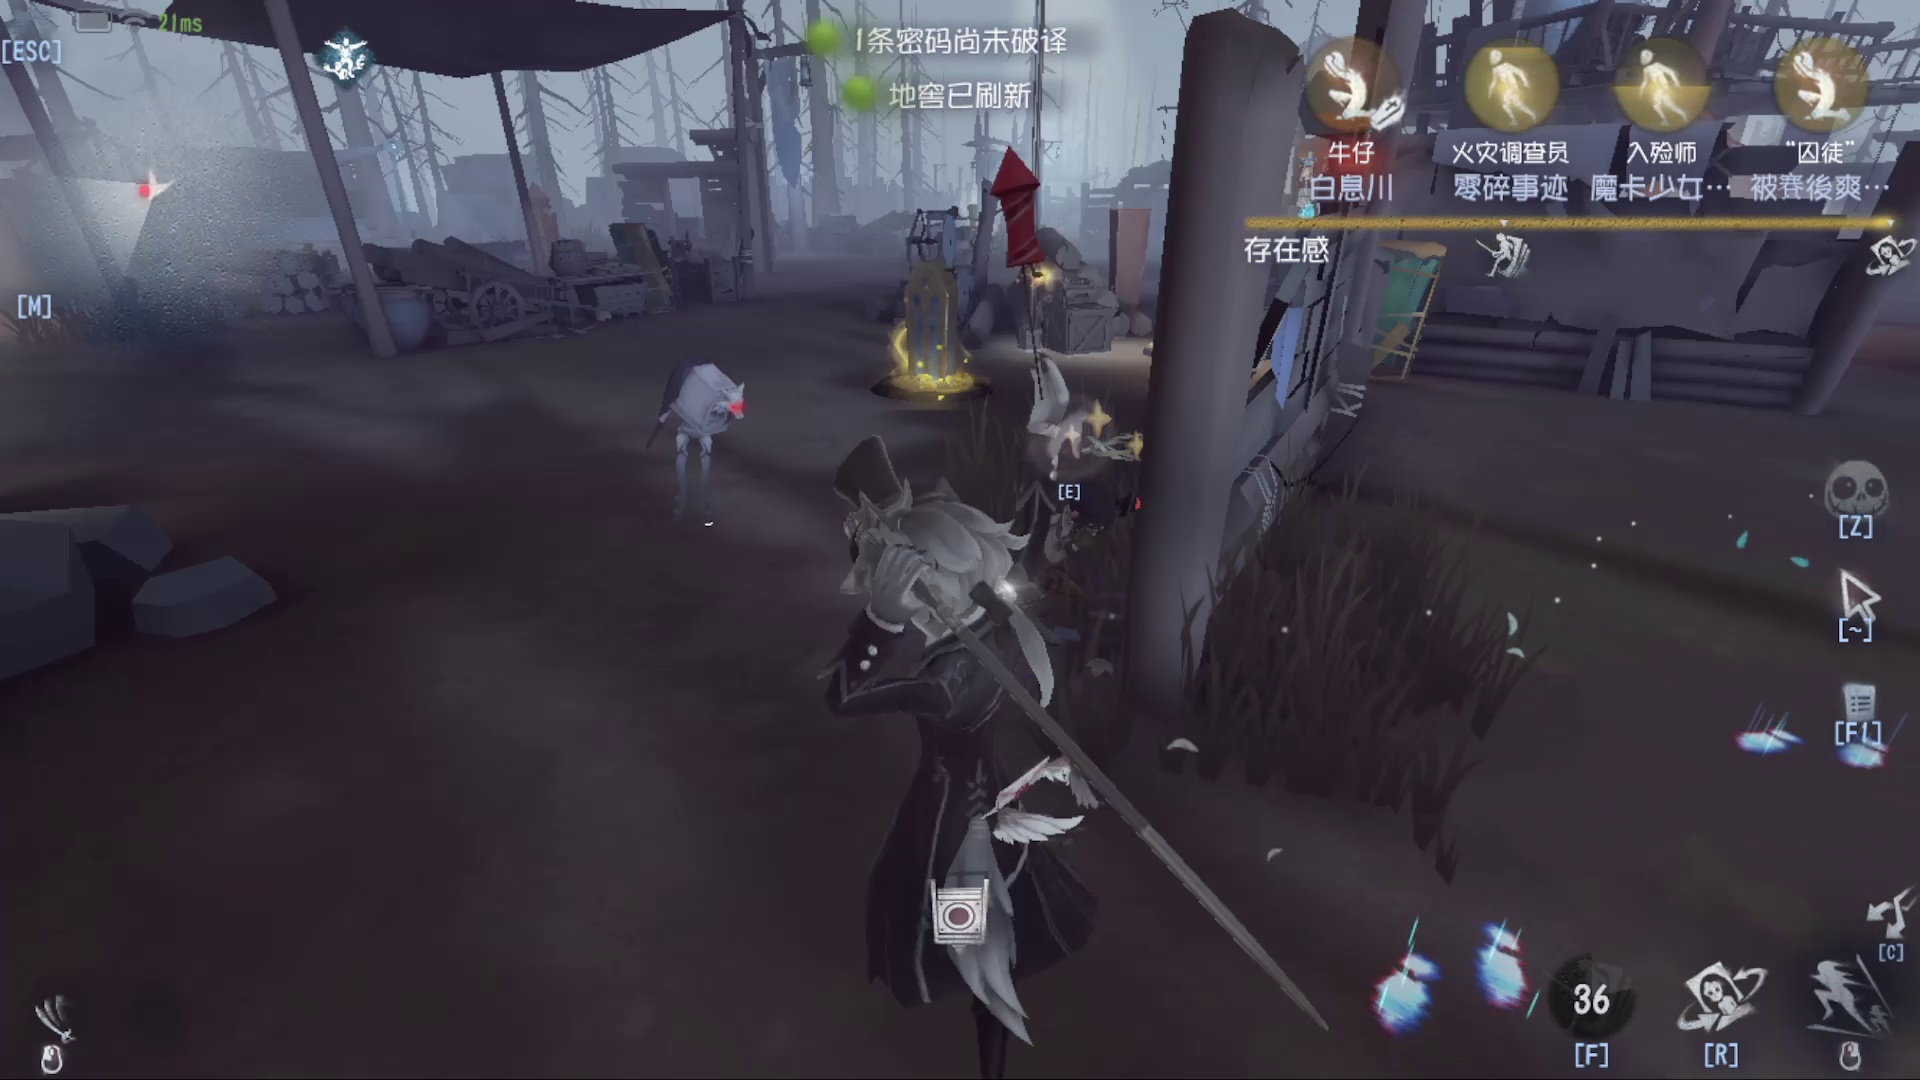木板: (1342, 231, 1473, 421)
求生者: (973, 404, 1145, 636)
狂欢之椅: (506, 165, 582, 262)
